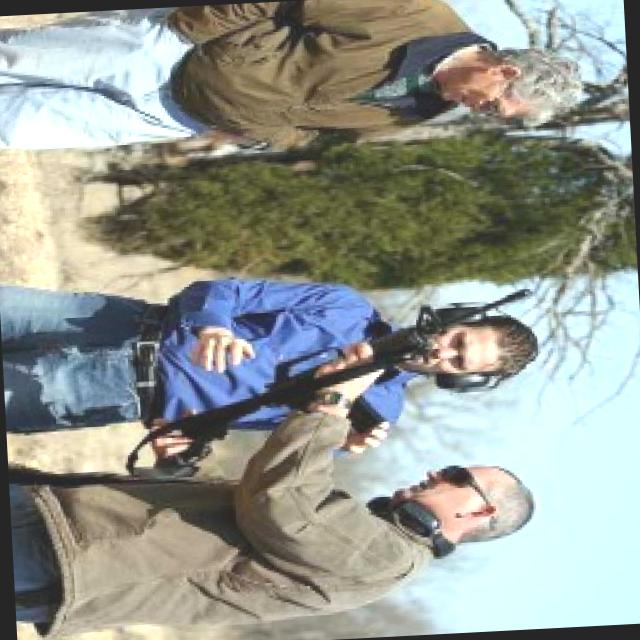long weapon: (132, 272, 547, 467)
